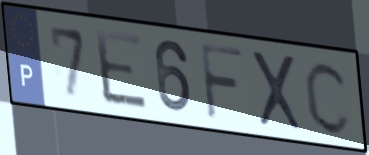6: (152, 37, 195, 116)
7: (46, 24, 89, 100)
C: (302, 58, 354, 138)
E: (91, 25, 152, 114)
F: (197, 38, 247, 124)
X: (248, 46, 306, 135)
